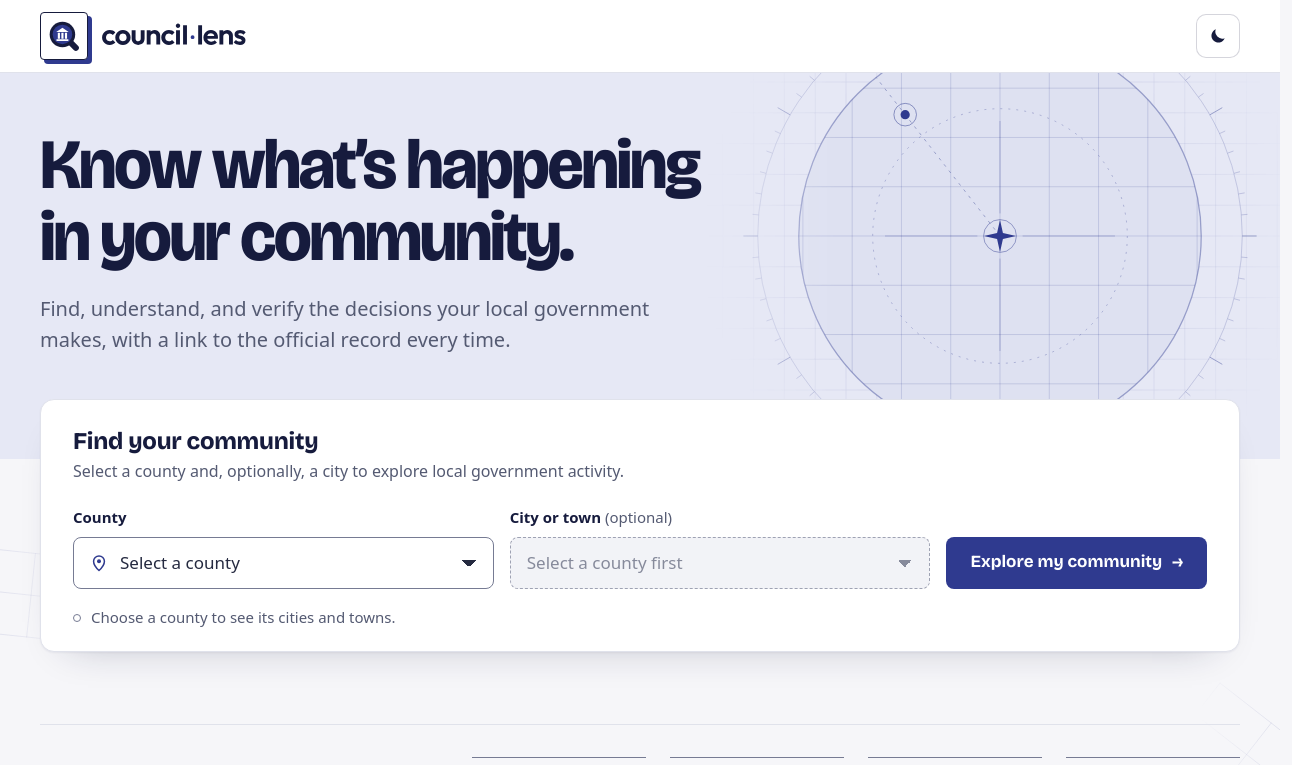
Test: Location chooser › shows Coming Soon for a Fulton city, pointing to the Fulton County page
Select "Fulton County" in the dropdown labelled "County" at (283, 563), box [73, 537, 494, 589]
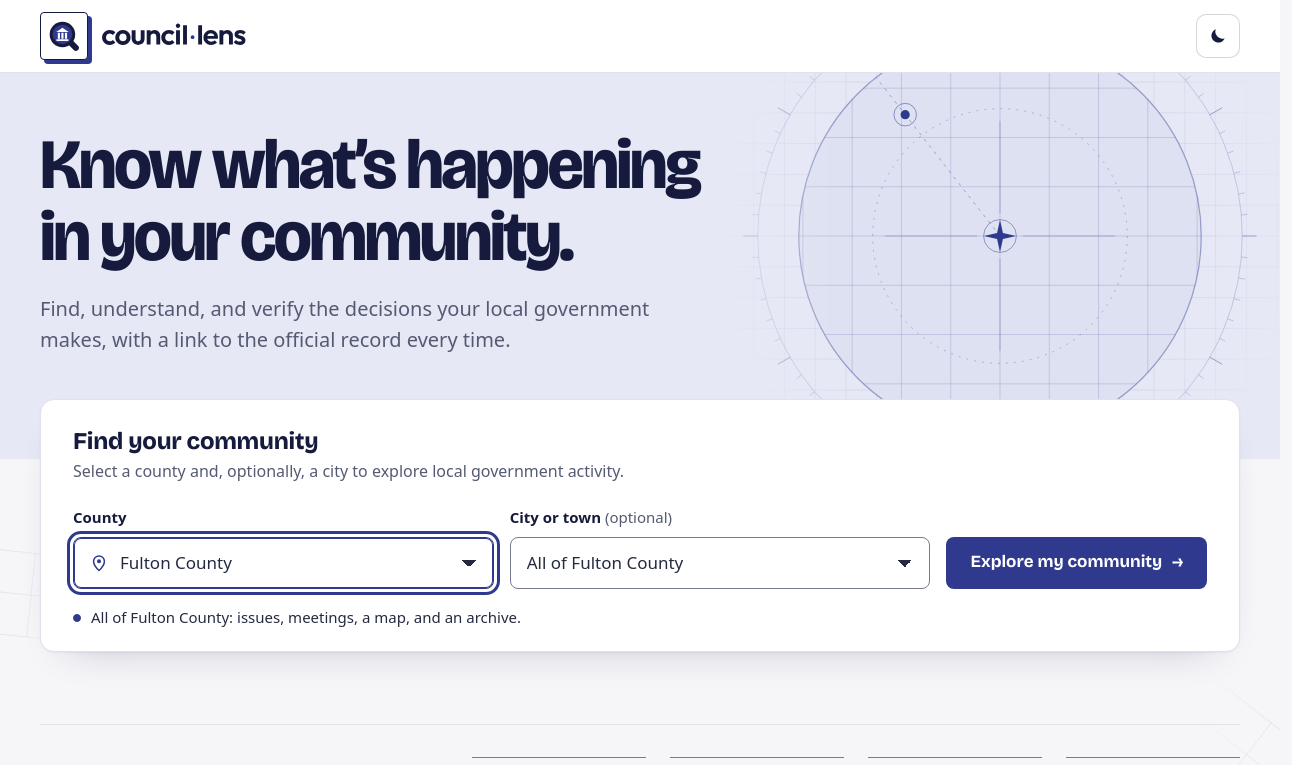
Select "Alpharetta" in the dropdown labelled "City or town (optional)" at (720, 563), box [510, 537, 930, 589]
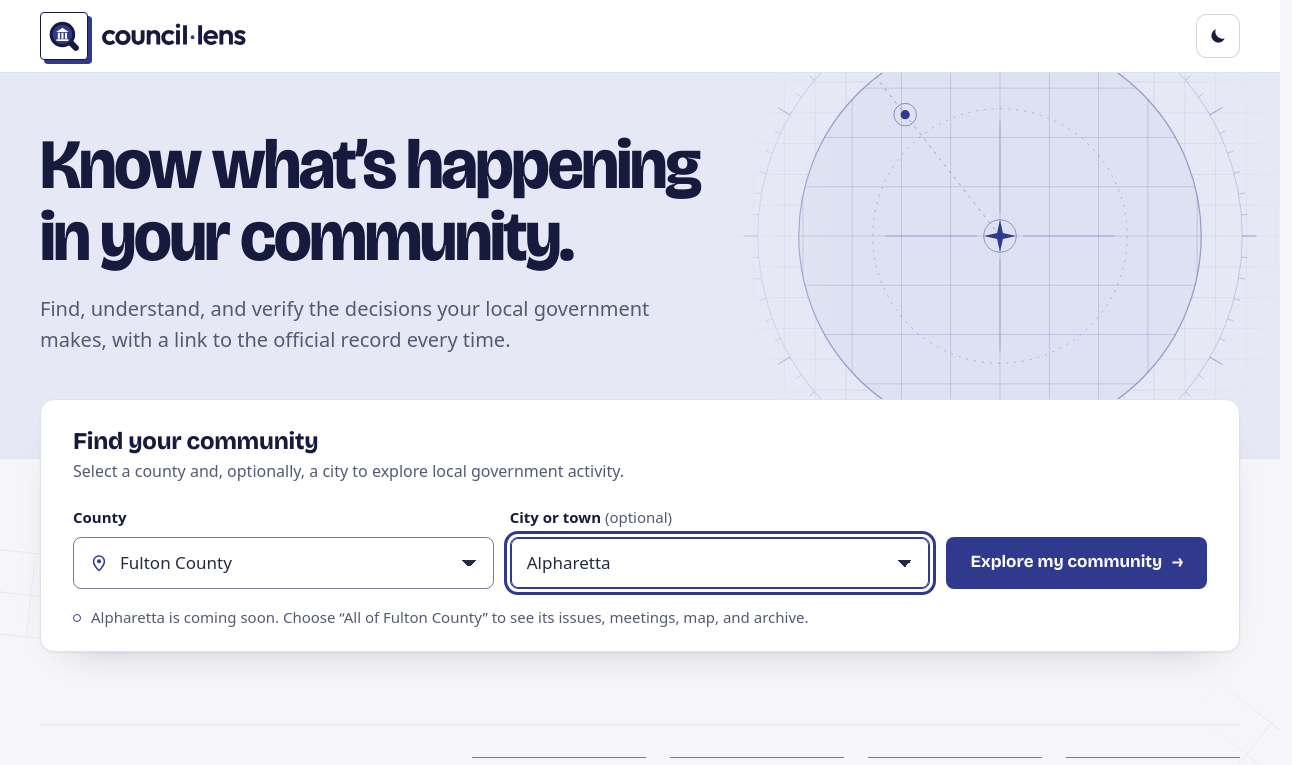
Expected: the message shows "Alpharetta is coming soon. Choose “All of Fulton County”", [91, 607, 808, 627]
Click the button "Explore my community →" at (1077, 563), box [946, 537, 1207, 589]
(page scrolled)
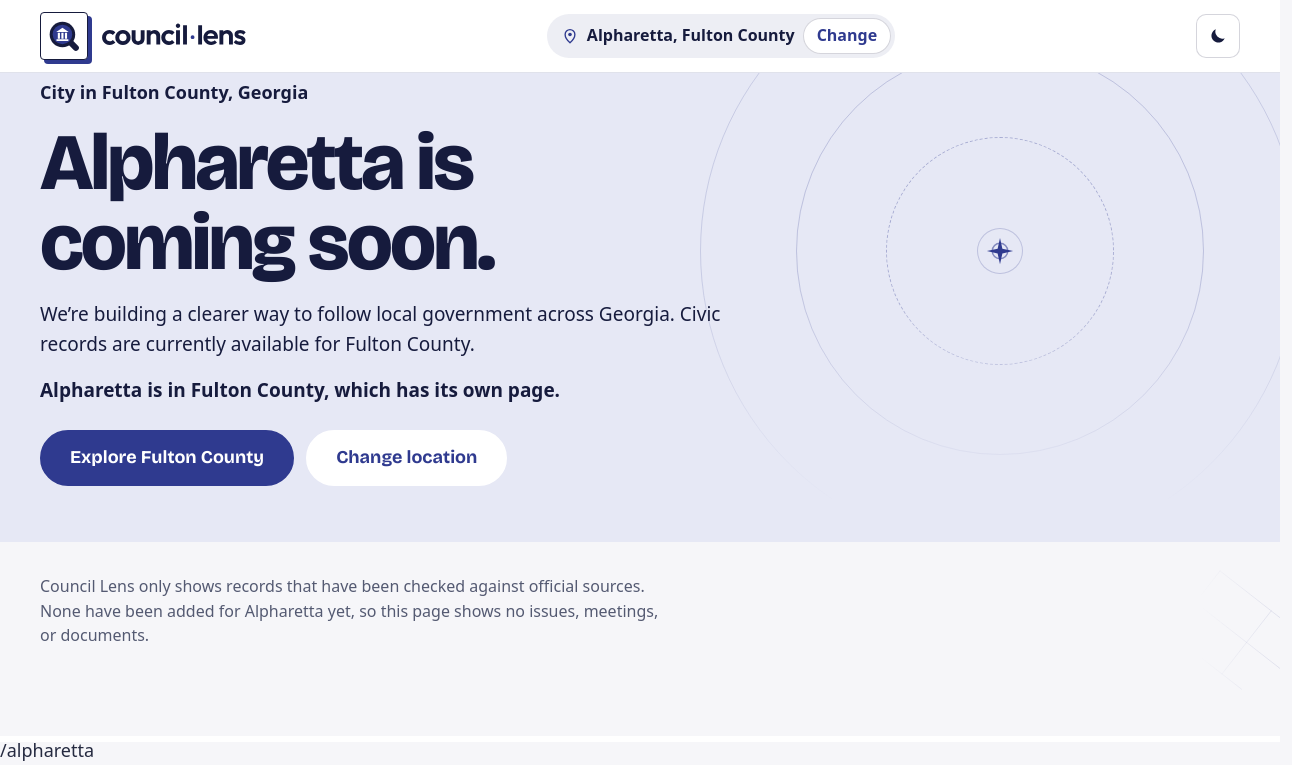
Expected: the heading "Alpharetta is coming soon." is shown, [40, 115, 494, 291]
Expected: the text "Alpharetta is in Fulton County, which has its own page." is shown, [40, 375, 560, 406]
Expected: the text with test id "url" reads "/alpharetta", [0, 738, 94, 762]
